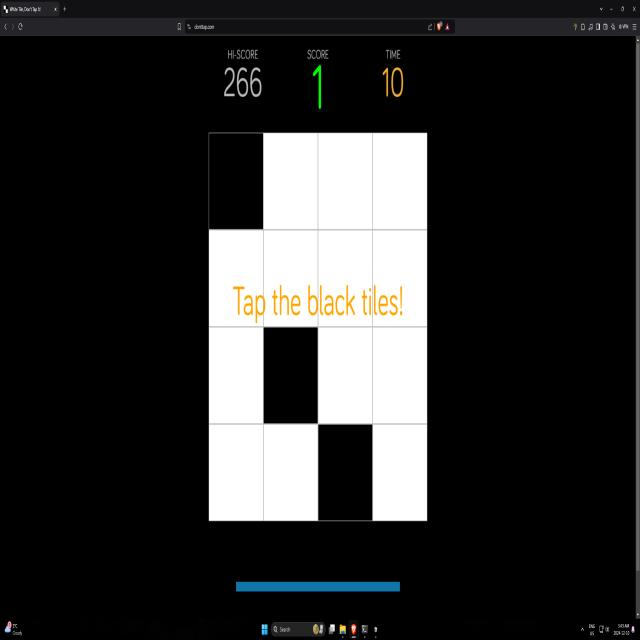black-tile: (262, 325, 319, 425), (317, 423, 373, 522), (209, 131, 263, 232)
